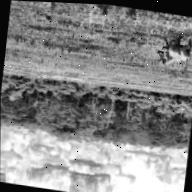boar: (147, 38, 190, 74)
